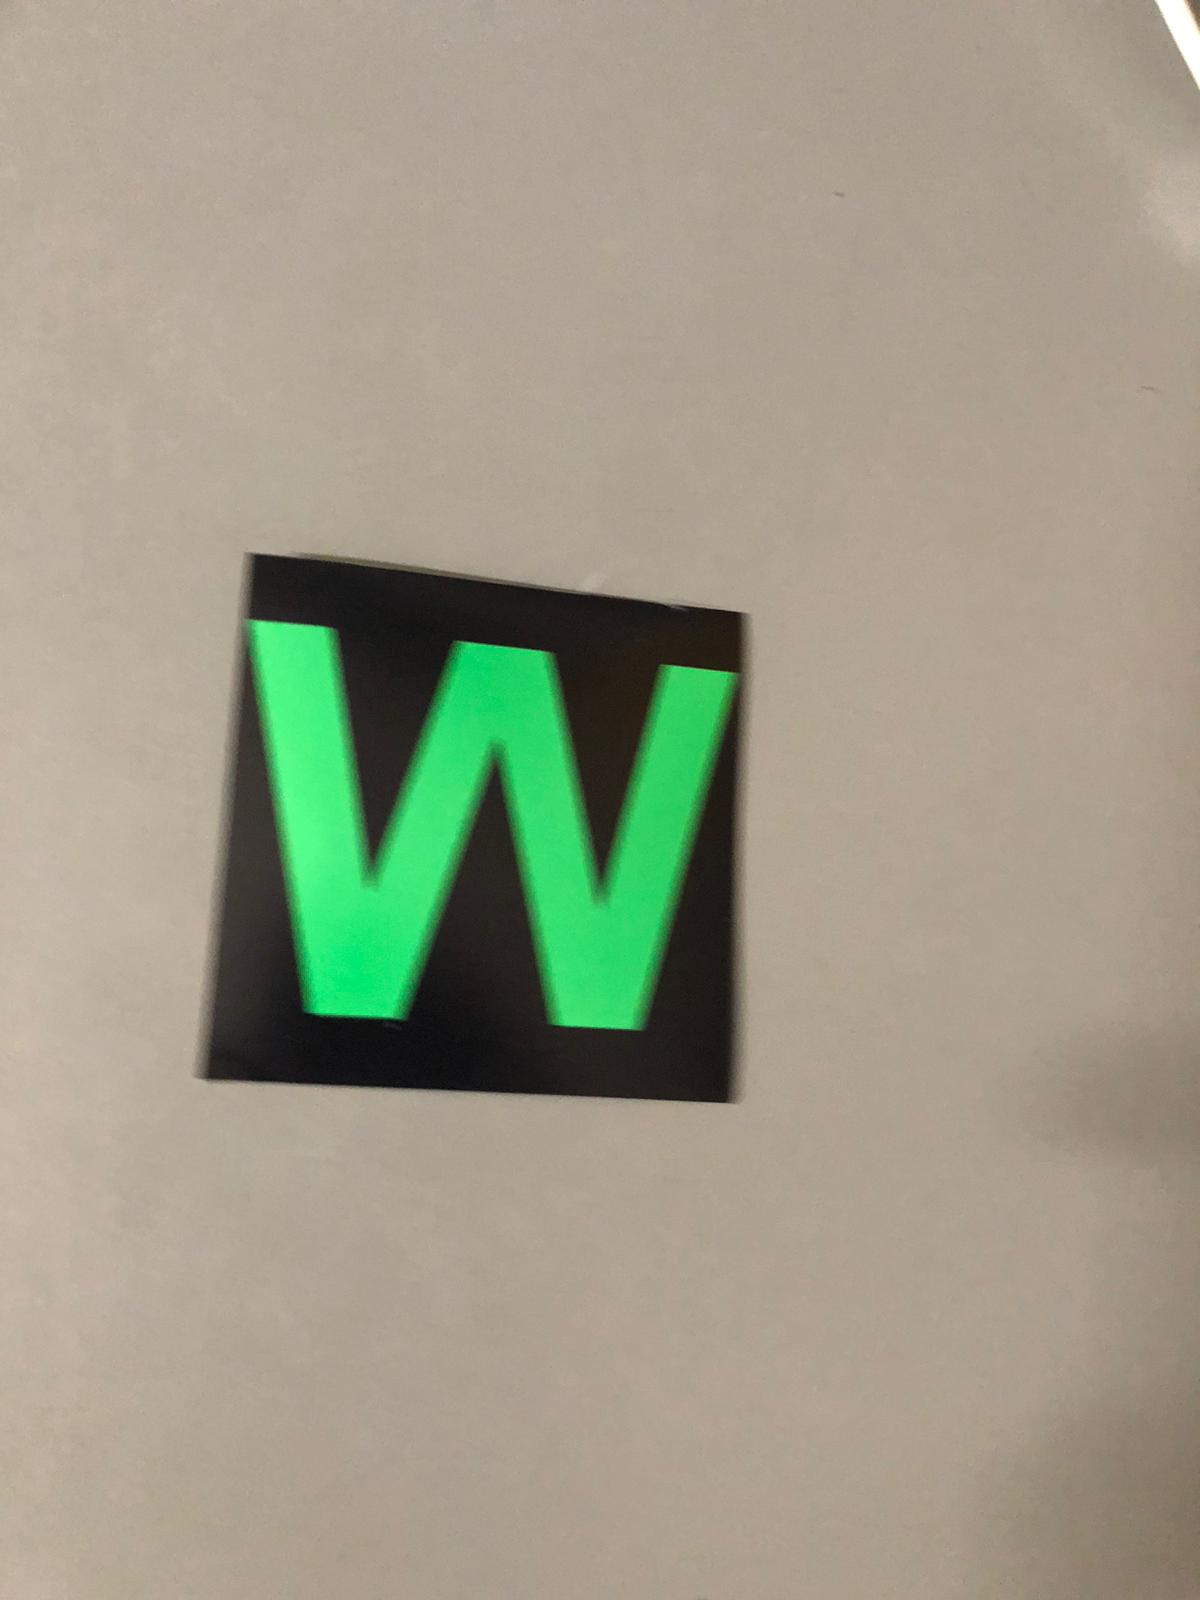W: (248, 577, 734, 1099)
